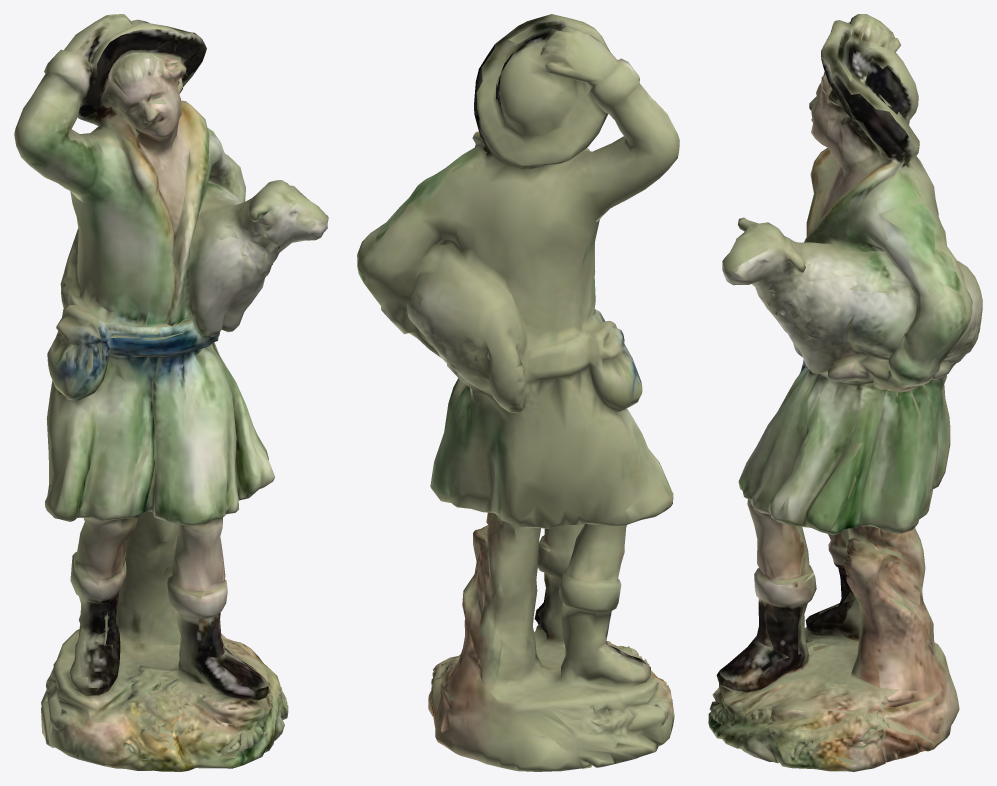
Rendered from shepherd-20177423.glb.
3 views of the same model, side by side, from view 1: azimuth 30°, elevation 25°; view 2: azimuth 150°, elevation 25°; view 3: azimuth 270°, elevation 25° (orthographic). The views are drawn at different scales.
Parts seen in each view (by area): view 1: Mesh; view 2: Mesh; view 3: Mesh.
Boxes of the visible parts, <box> form: Mesh: <box>14,14,328,771</box>; Mesh: <box>357,14,679,771</box>; Mesh: <box>708,14,982,771</box>.
Size of the model in its own units: 0.0855 by 0.2131 by 0.0771.
Materials: 1 (1 with a texture image).
